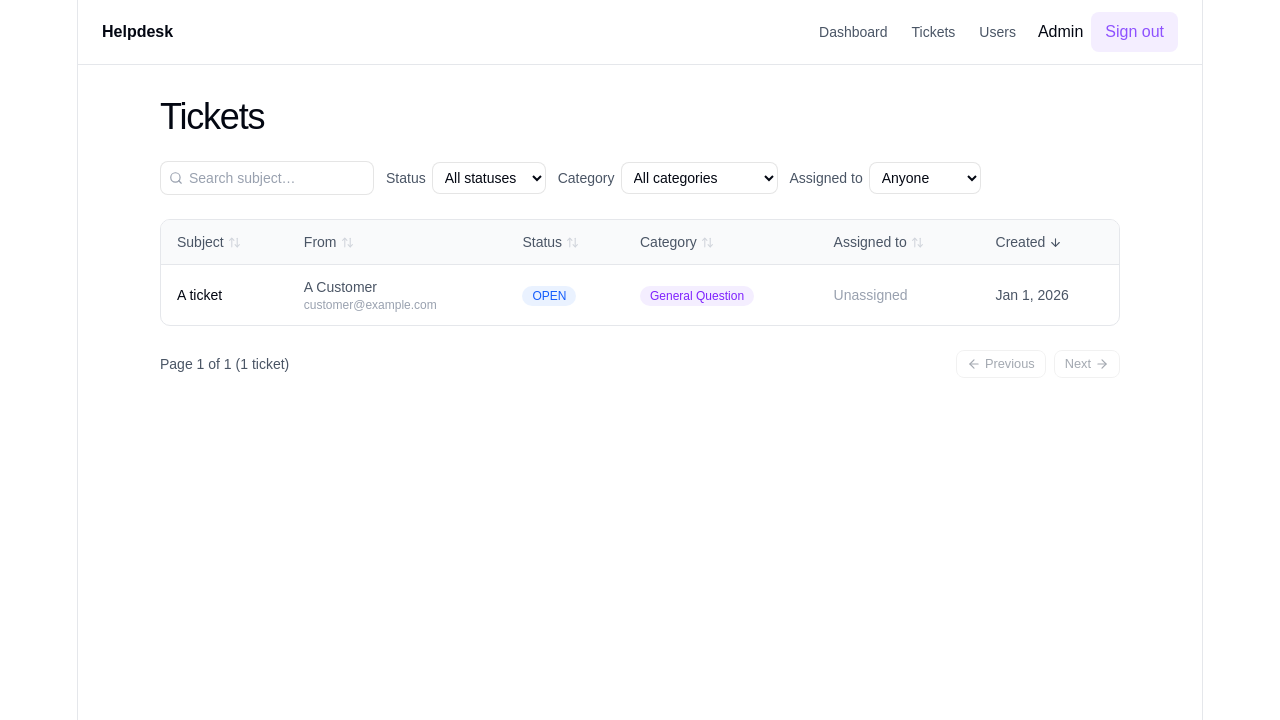
it: TicketsPage › debounces the subject search before requesting the server
Check: the link "A ticket" is shown, box 177,287 -> 222,303
Type "refund" into the field named "Search by subject".
click(277, 178); type("refund")  # box 189,168 -> 365,188
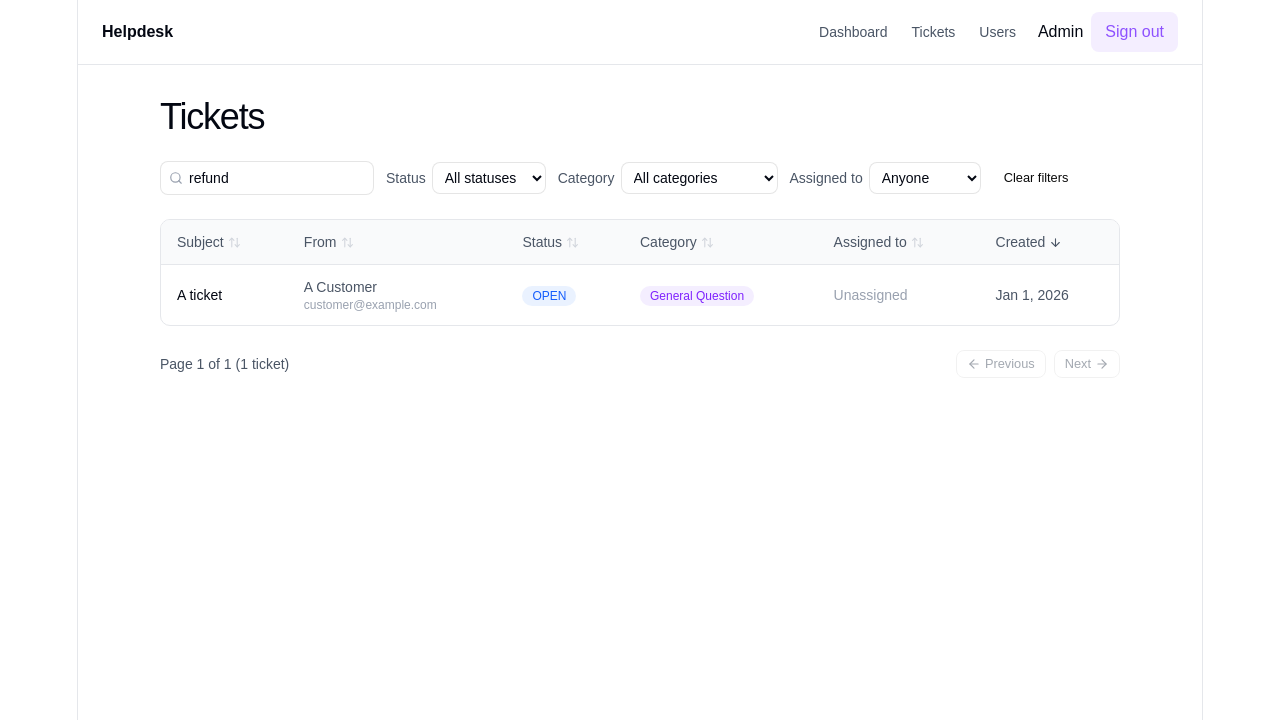
Check: the button "Clear filters" is shown, box 993,164 -> 1079,192
